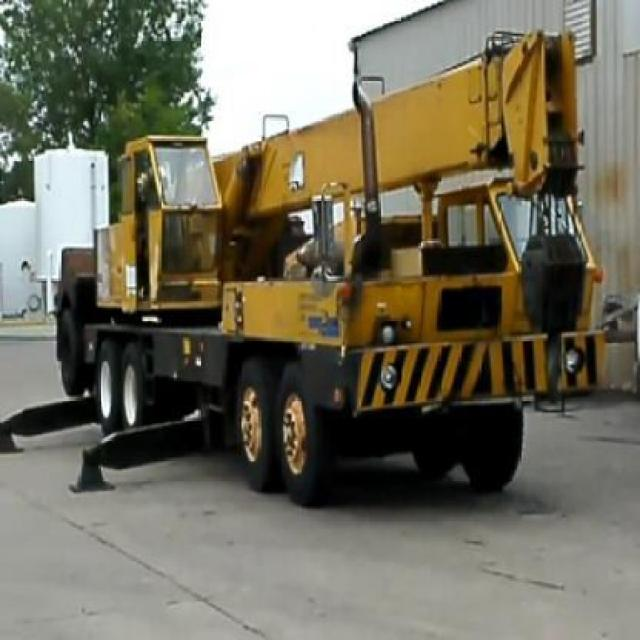Mobile Crane: (6, 30, 586, 498)
